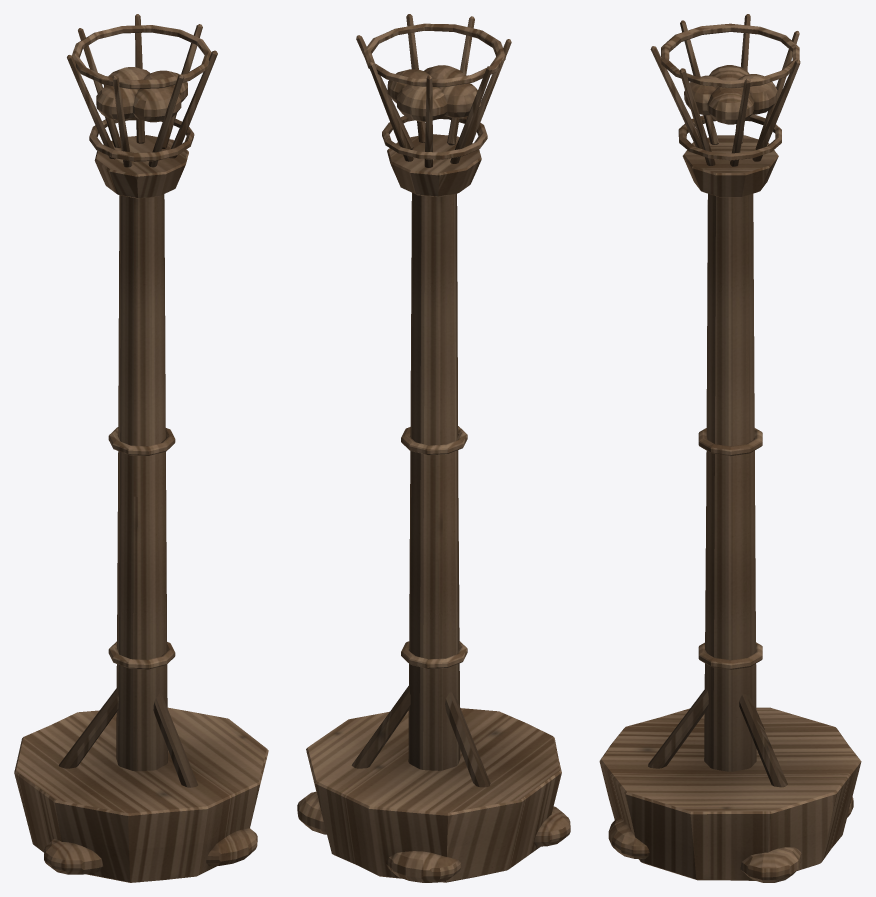
File: p_torchpost.glb
3 renders of one model, left to right at view 1: azimuth 30°, elevation 25°; view 2: azimuth 150°, elevation 25°; view 3: azimuth 270°, elevation 25°, orthographic.
Visible parts, largest first — view 1: torchpost; view 2: torchpost; view 3: torchpost.
Boxes of the visible parts, <box> form: torchpost: <box>14,14,268,882</box>; torchpost: <box>297,14,570,882</box>; torchpost: <box>599,14,861,882</box>.
Size of the model in its own units: 0.8034 by 2.67 by 0.8.
1 material, 1 textured.
